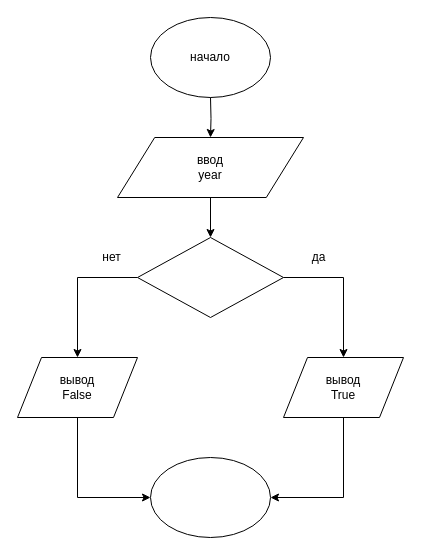
The diagram is 421 pixels wide and 555 high, and some of its shapes have lost their labels. Each missing label, with the centre of its shape:
"year % 4 == 0" belongs at (210,277).
"конец" belongs at (210,497).
